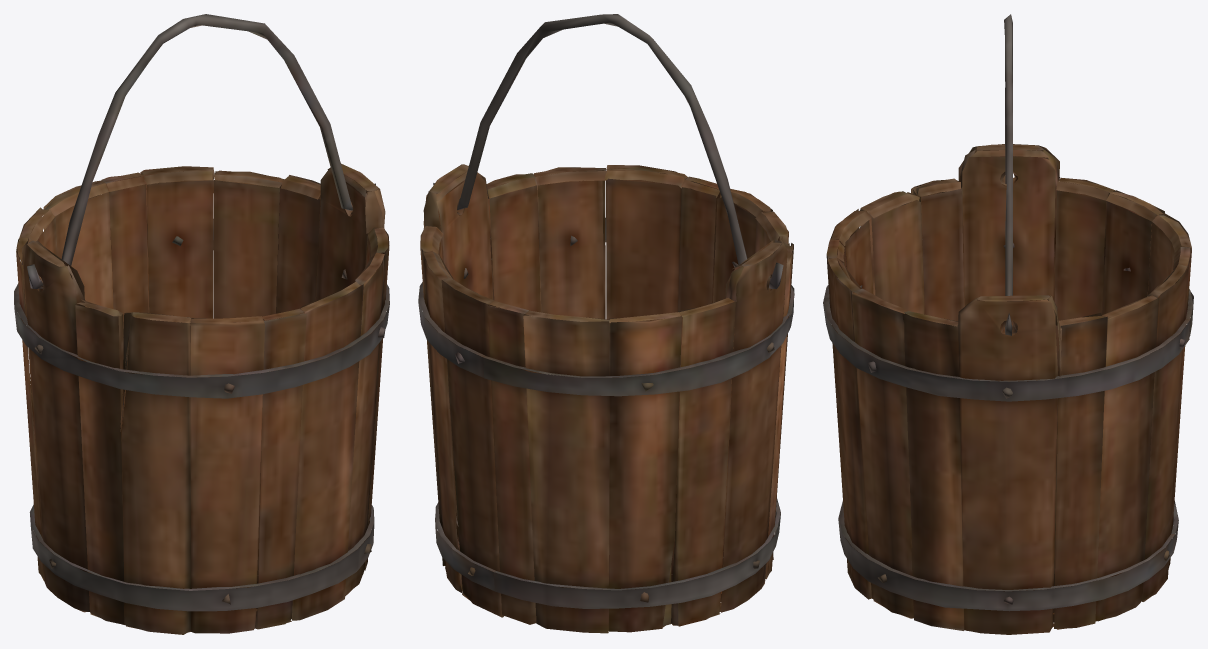
Rendered from wooden_bucket_01.gltf.
3 views of the same model, side by side, from view 1: azimuth 30°, elevation 25°; view 2: azimuth 150°, elevation 25°; view 3: azimuth 270°, elevation 25° (orthographic).
Parts seen in each view (by area): view 1: wooden_bucket_01; view 2: wooden_bucket_01; view 3: wooden_bucket_01.
Part boxes in pixels (x1,y1,x2,y2): wooden_bucket_01: (14, 14, 389, 634); wooden_bucket_01: (418, 14, 794, 633); wooden_bucket_01: (823, 14, 1193, 634).
Bounding box in the file's own units: 0.3661 × 0.5521 × 0.3417.
1 material, 1 textured.
